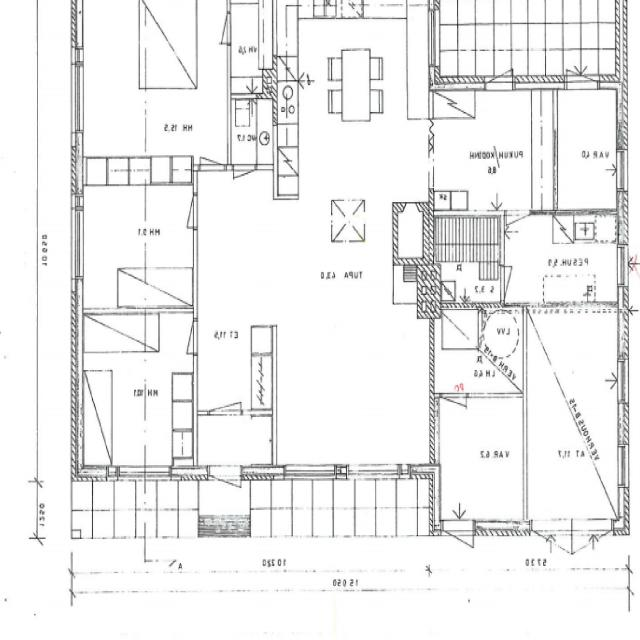door: (530, 520, 572, 594), (572, 520, 614, 594), (210, 466, 242, 523), (444, 519, 474, 578), (568, 34, 598, 90), (210, 367, 242, 415), (485, 37, 513, 90), (501, 266, 531, 301), (169, 194, 198, 228), (169, 321, 198, 354), (506, 210, 531, 248), (201, 131, 225, 170), (204, 12, 232, 44), (443, 393, 467, 430), (234, 165, 256, 200)
